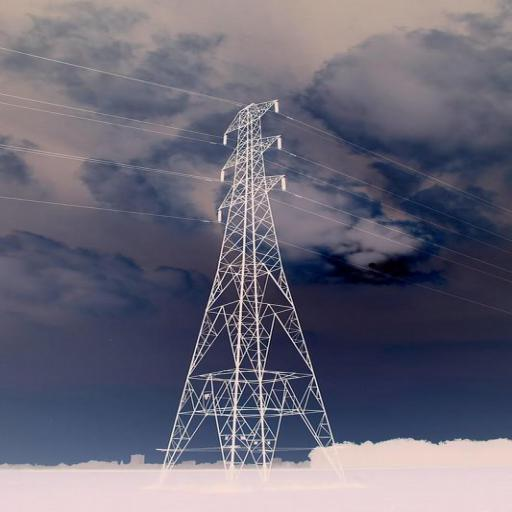ss_3: (164, 94, 358, 485)
